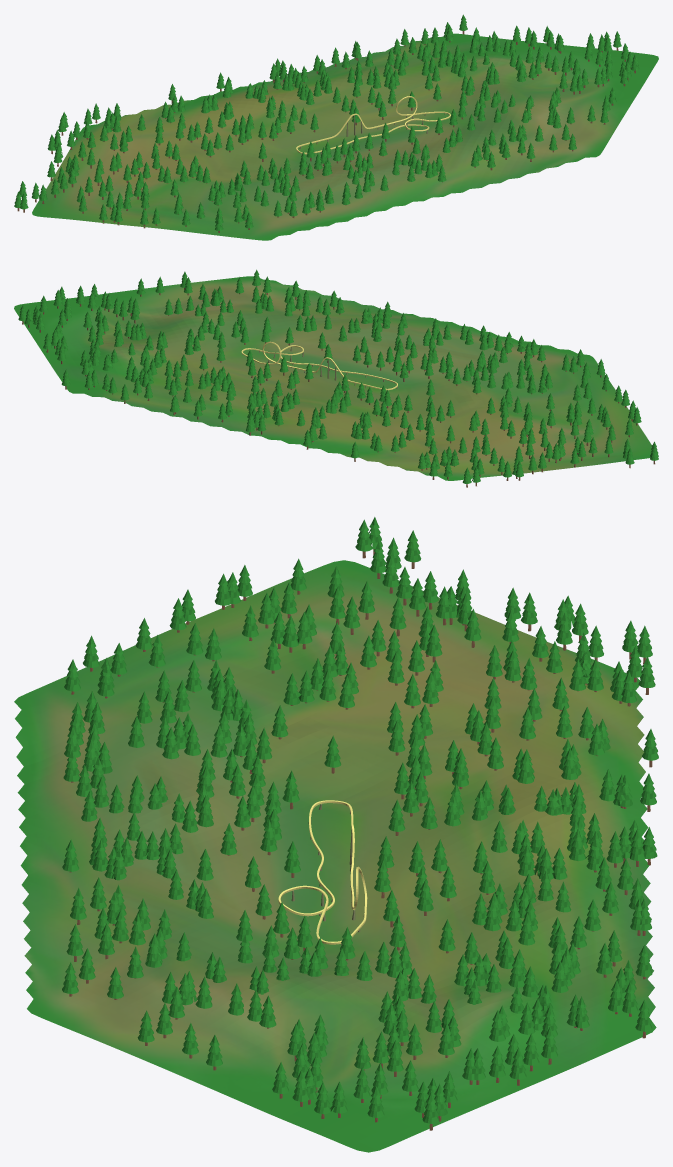
File: FloresRollecoaster.fbx
The picture shows the model from 3 angles, top to bottom: view 1: azimuth 30°, elevation 25°; view 2: azimuth 150°, elevation 25°; view 3: azimuth 270°, elevation 25°; orthographic projection. The views are drawn at different scales.
Visible parts, largest first — view 1: chao, arvores, montanha; view 2: chao, arvores, montanha; view 3: chao, arvores, montanha.
Boxes of the visible parts, x1,y1,x2,y2 form: chao: [32, 33, 658, 240]; arvores: [14, 14, 639, 232]; montanha: [296, 96, 450, 154]; chao: [14, 276, 651, 480]; arvores: [18, 269, 658, 487]; montanha: [241, 341, 397, 390]; chao: [14, 560, 656, 1152]; arvores: [62, 517, 658, 1130]; montanha: [278, 800, 367, 944].
Bounding box in the file's own units: 42452 × 1658 × 19237.
4 materials, 4 textured.
